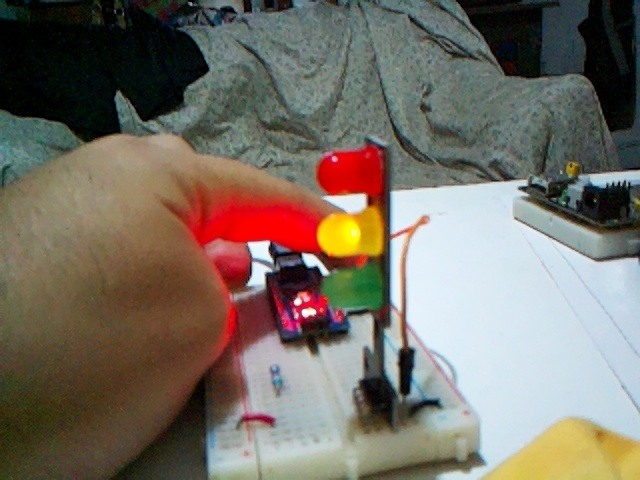traffic_light_yellow: (316, 136, 395, 420)
